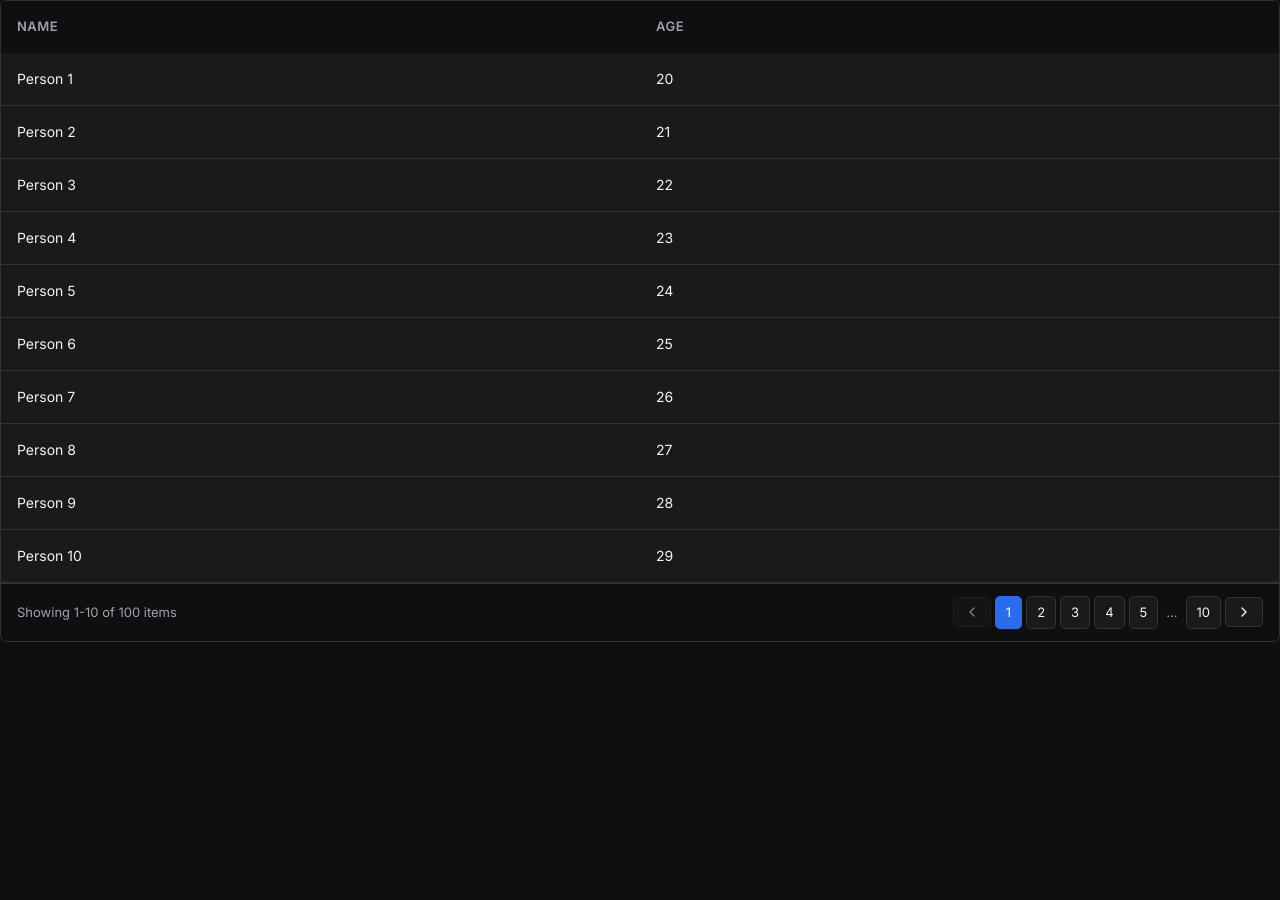
Test case: DataTable › navigates to last page from an earlier page
The width and height of the screenshot is (1280, 900).
# Click last page button
Click the button named "Last page". click: {"x": 1203, "y": 612}
box: [1186,596,1221,629]
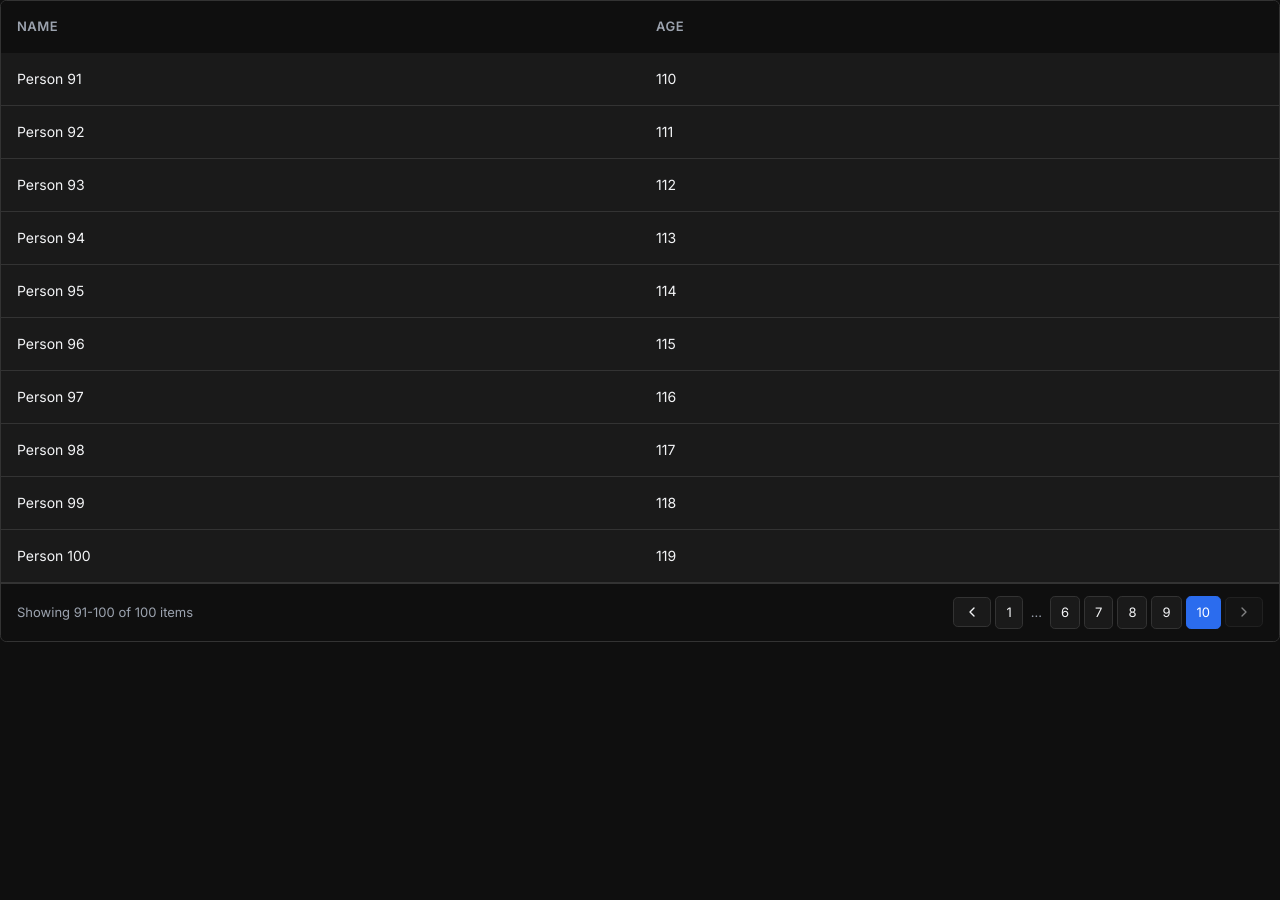
Expected: the text "Person 100" is shown, [1,529,640,582]
